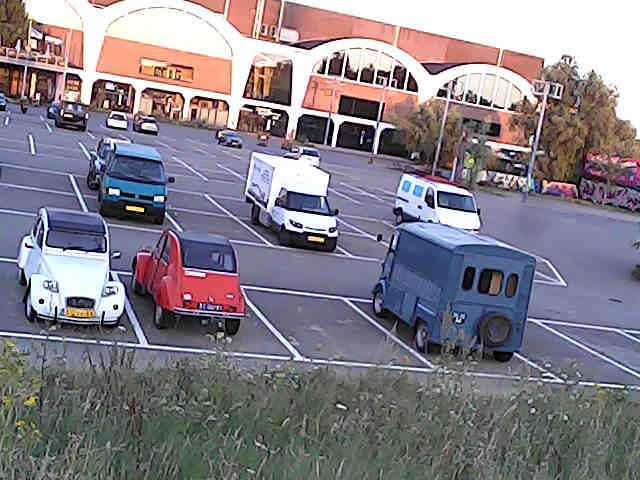suv: (373, 222, 535, 361), (18, 207, 125, 326), (18, 207, 124, 325), (131, 229, 245, 335), (245, 152, 338, 251), (98, 143, 174, 223), (86, 137, 131, 189), (55, 101, 88, 130), (284, 146, 320, 167), (132, 113, 158, 135), (217, 130, 242, 148), (105, 111, 128, 129), (46, 101, 60, 118), (0, 92, 6, 110)
whitevan: (245, 155, 336, 238), (393, 173, 480, 231), (298, 146, 320, 166), (257, 132, 268, 146)
